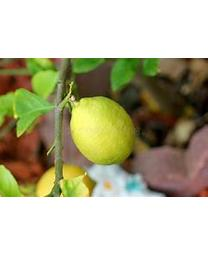lemon: (69, 96, 135, 166)
